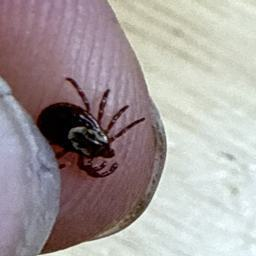Dermacentor variabilis: (35, 76, 148, 186)
